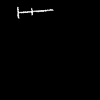double_crochet: (17, 8, 50, 17)
